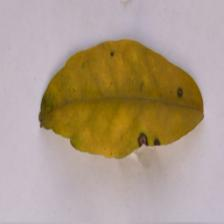black spot: (101, 40, 181, 151)
